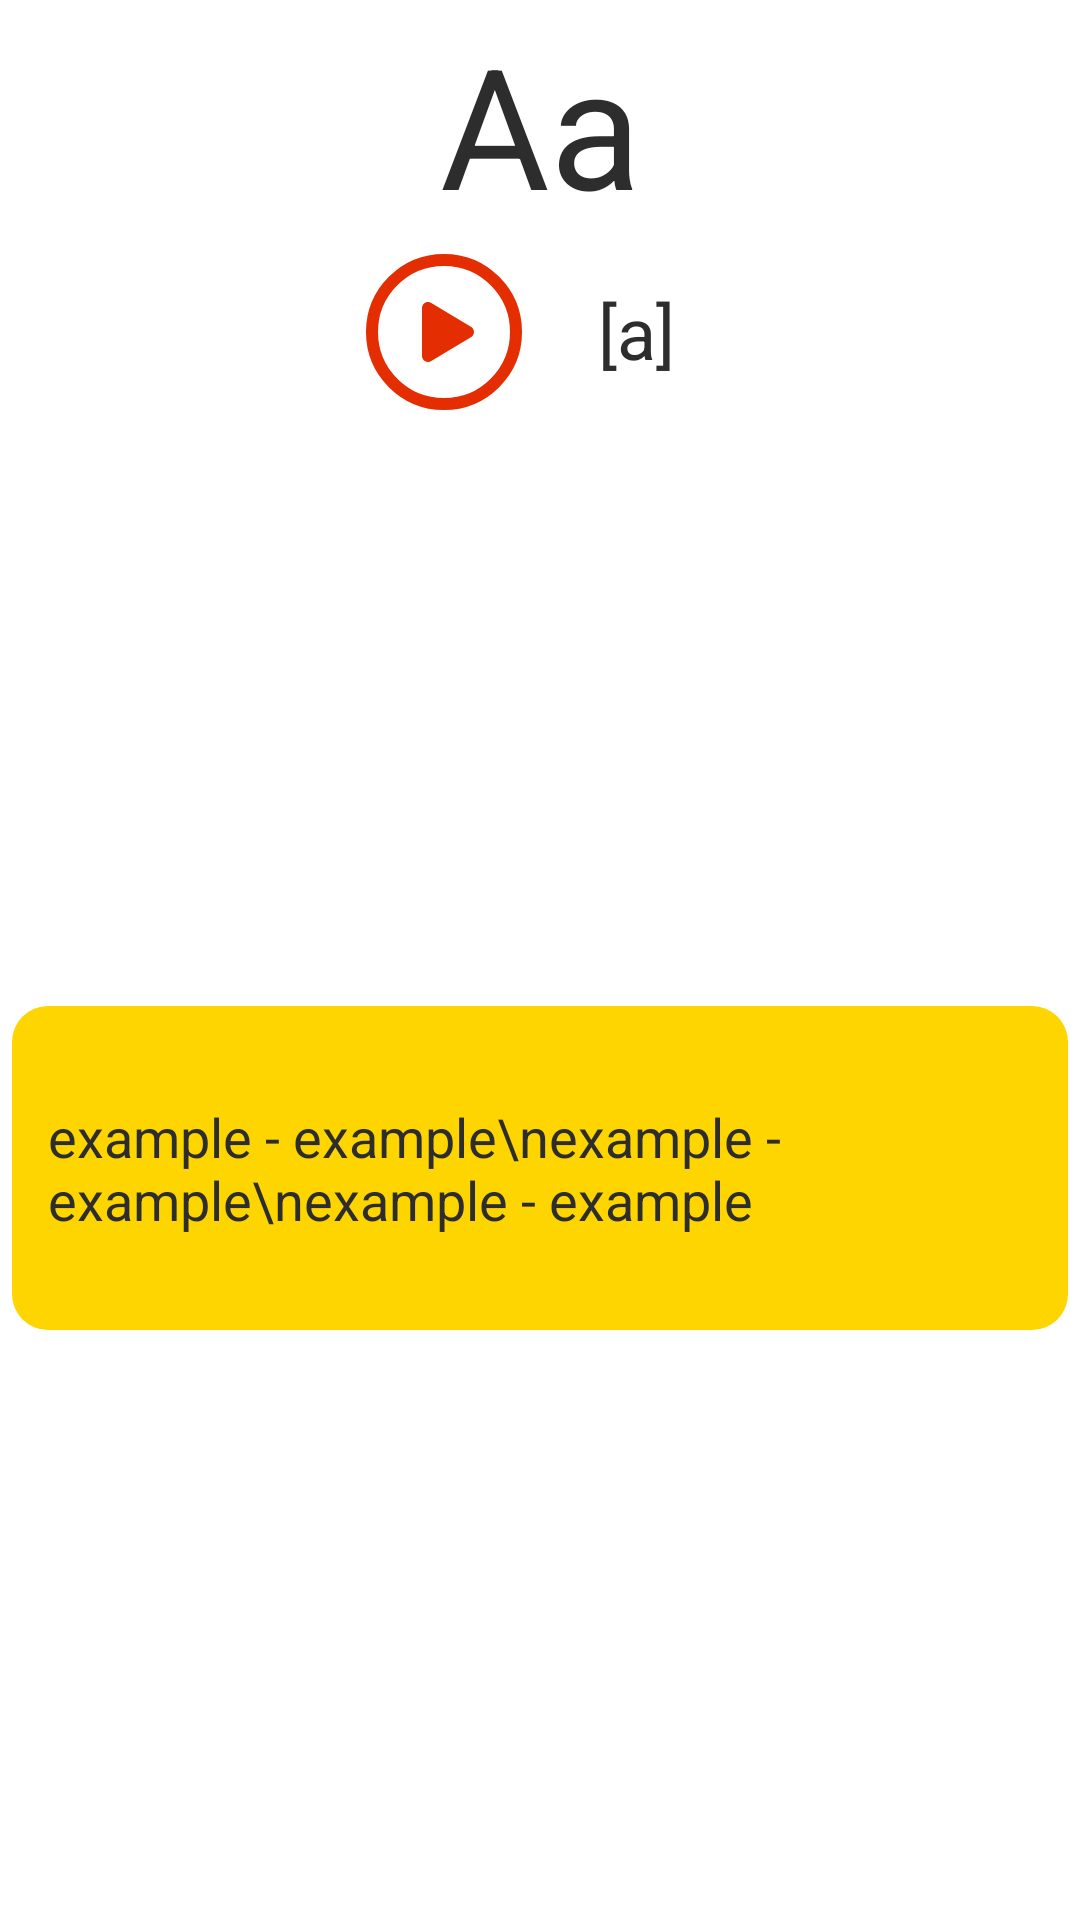

Named icons in this screenshot (1080w x 1920h) and their centers, [x,y]:
play transcription: [444,332]
